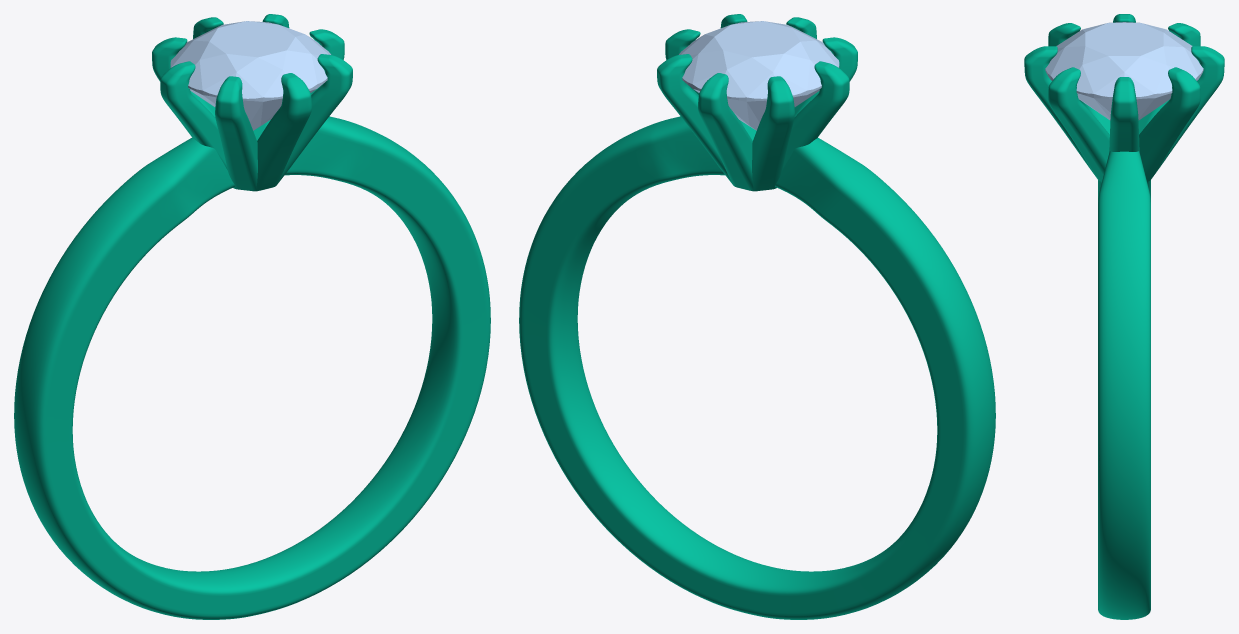
3 renders of one model, left to right at view 1: azimuth 30°, elevation 25°; view 2: azimuth 150°, elevation 25°; view 3: azimuth 270°, elevation 25°, orthographic. The views are drawn at different scales.
Parts seen in each view (by area): view 1: JTC 7228(front).3dm, Diamond_Round; view 2: JTC 7228(front).3dm, Diamond_Round; view 3: JTC 7228(front).3dm, Diamond_Round.
Part boxes in pixels (box(x1,y1,x2,y2)): JTC 7228(front).3dm: box(14, 14, 490, 619); Diamond_Round: box(170, 21, 330, 130); JTC 7228(front).3dm: box(519, 14, 995, 619); Diamond_Round: box(679, 21, 839, 130); JTC 7228(front).3dm: box(1024, 14, 1224, 619); Diamond_Round: box(1045, 22, 1203, 120).
Size of the model in its own units: 2.51 by 2.96 by 0.9656.
